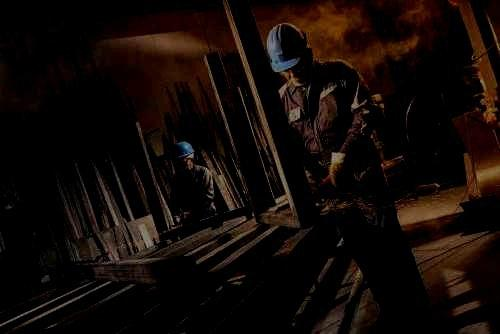helmet: (266, 23, 314, 87), (172, 141, 195, 173)
